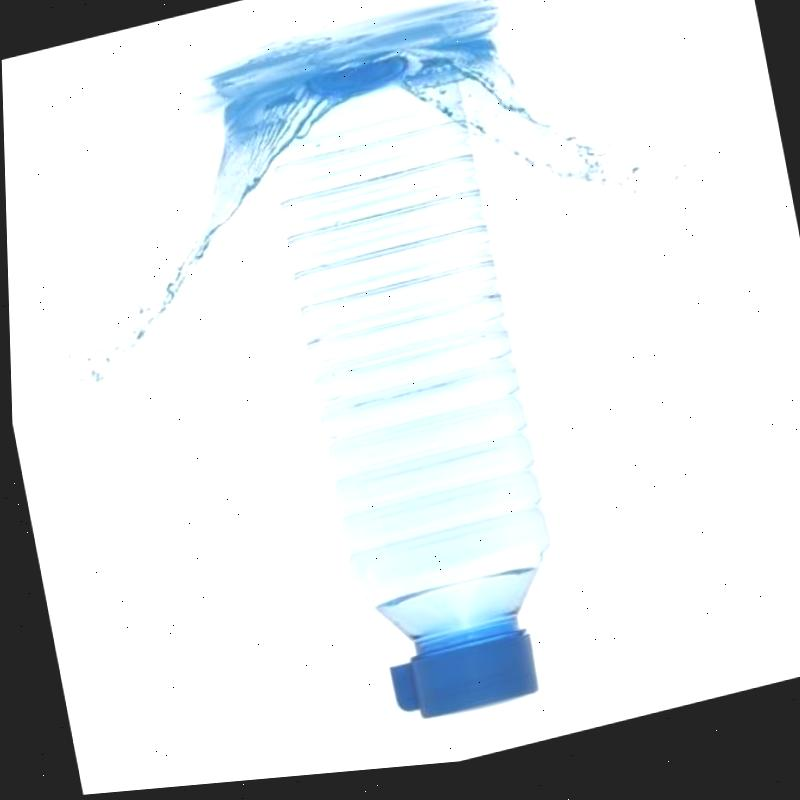botella: (250, 46, 574, 748)
